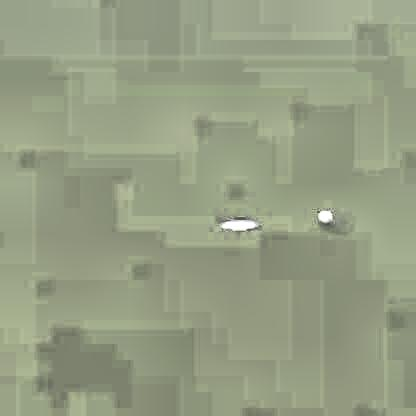golfball: (315, 208, 332, 223)
